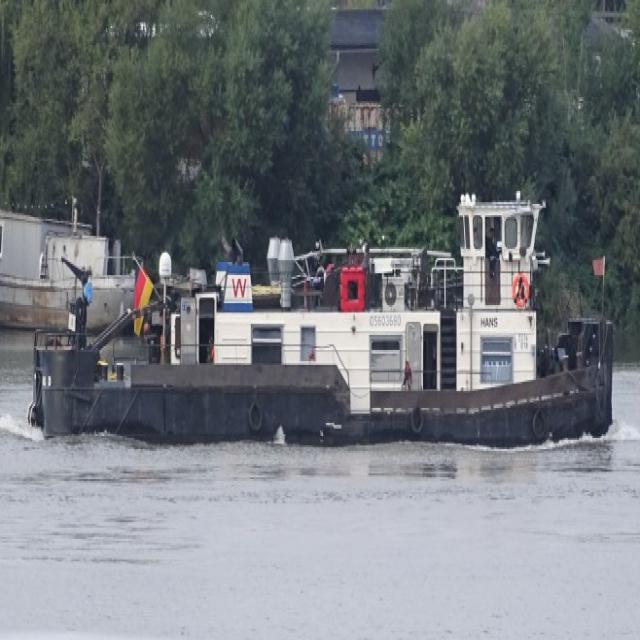tugboat: (29, 185, 626, 490)
